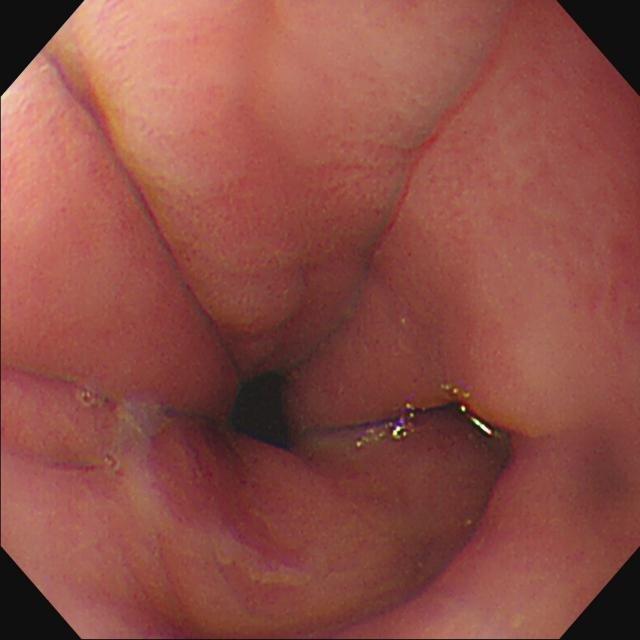A: (152, 147, 398, 327)
E: (231, 375, 291, 449)
U: (356, 403, 415, 447), (473, 419, 495, 437)
